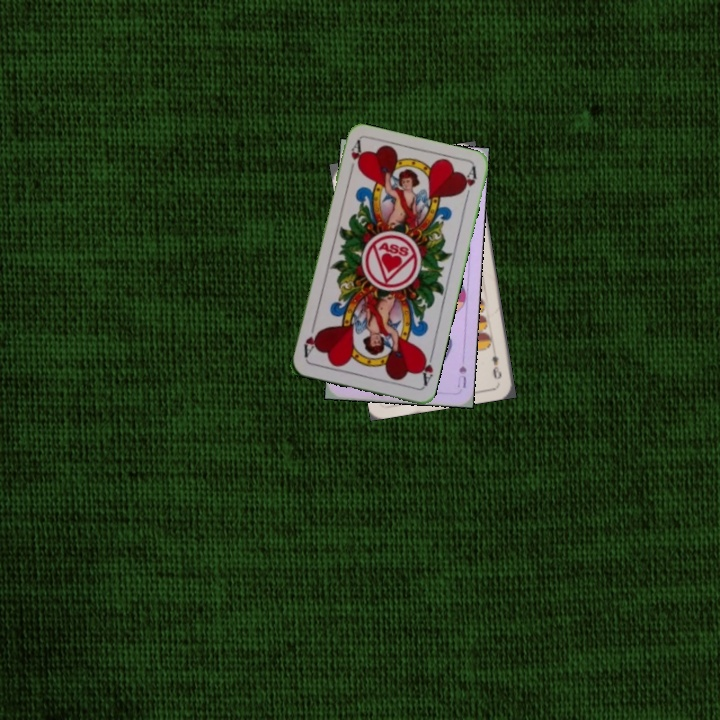E9: (488, 352, 504, 382)
HA: (415, 348, 436, 389), (345, 137, 364, 178)
SU: (454, 362, 469, 391)
